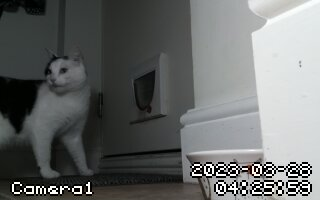bad: (4, 48, 106, 187)
